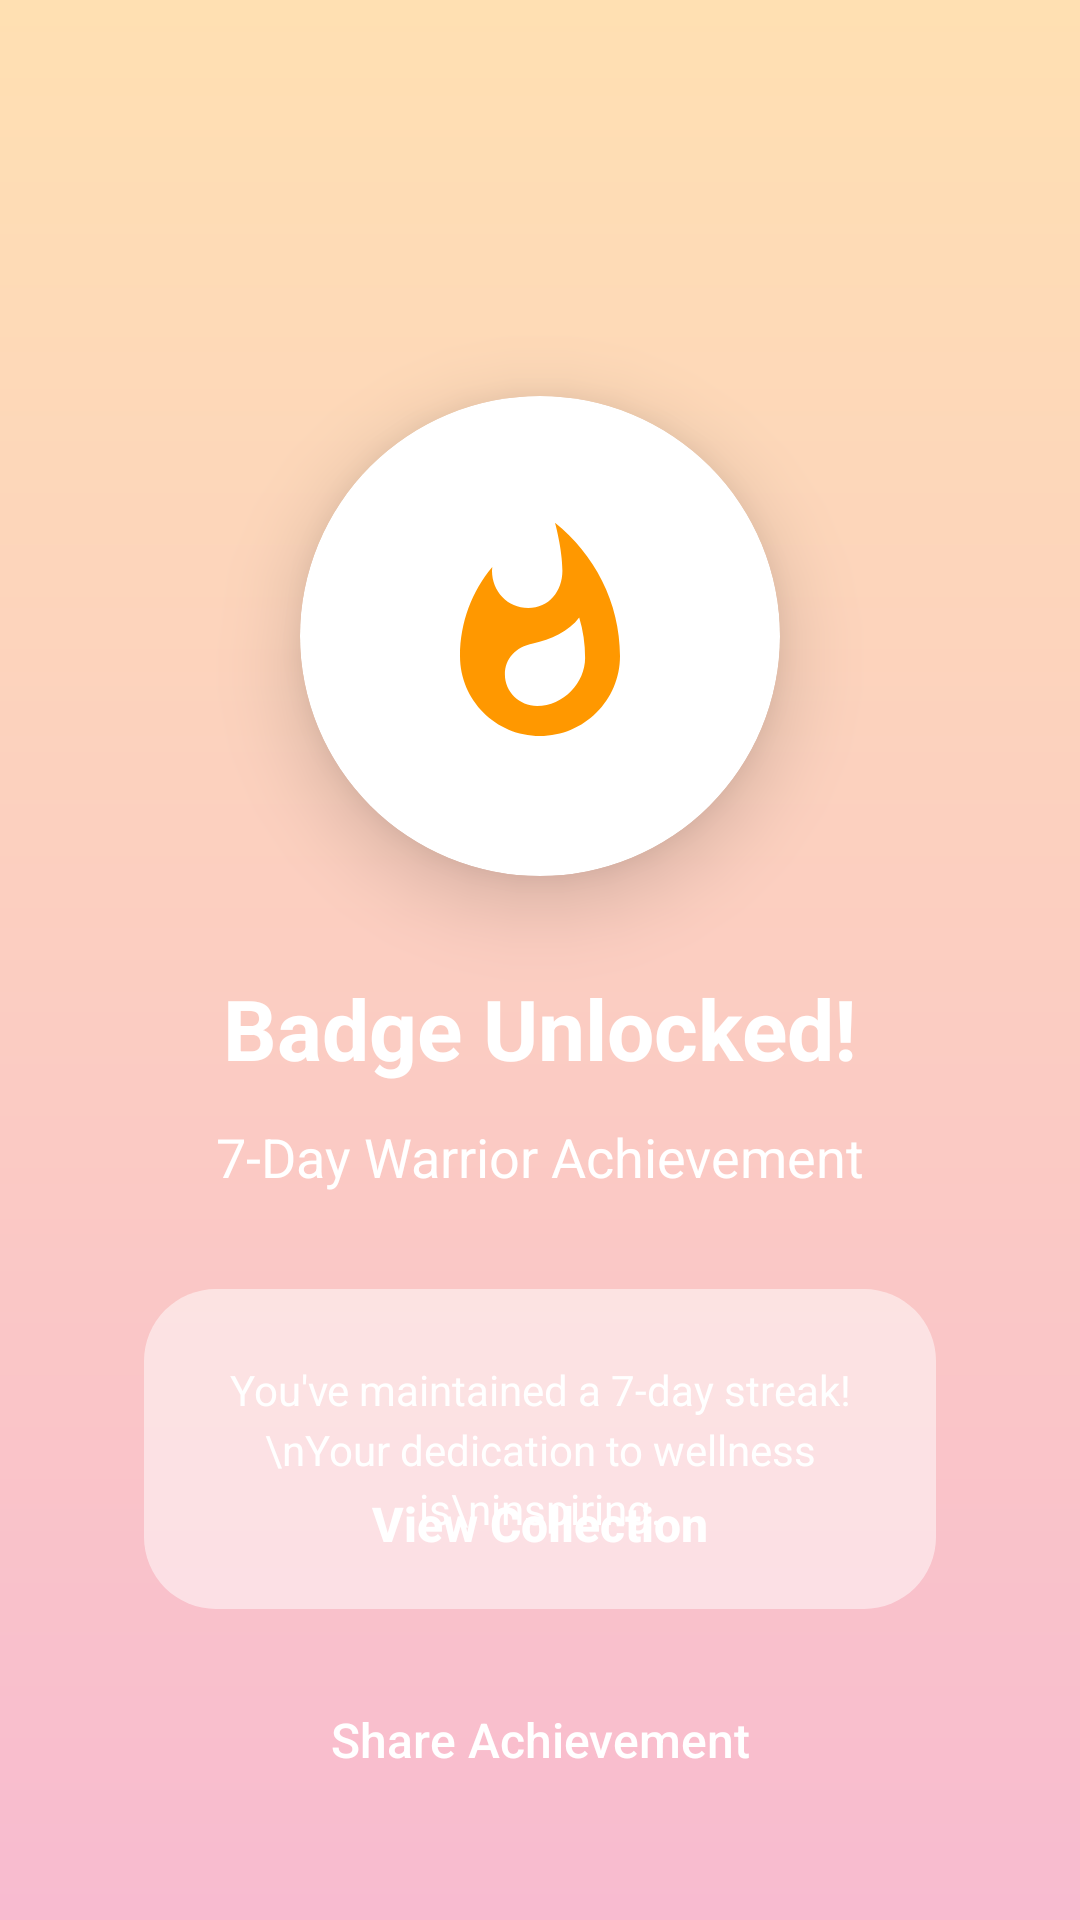

Named icons in this screenshot (1080px x 1920px) and their bounding boxes, (x1, y1, x2, y2):
fire: (460, 523, 620, 736)
